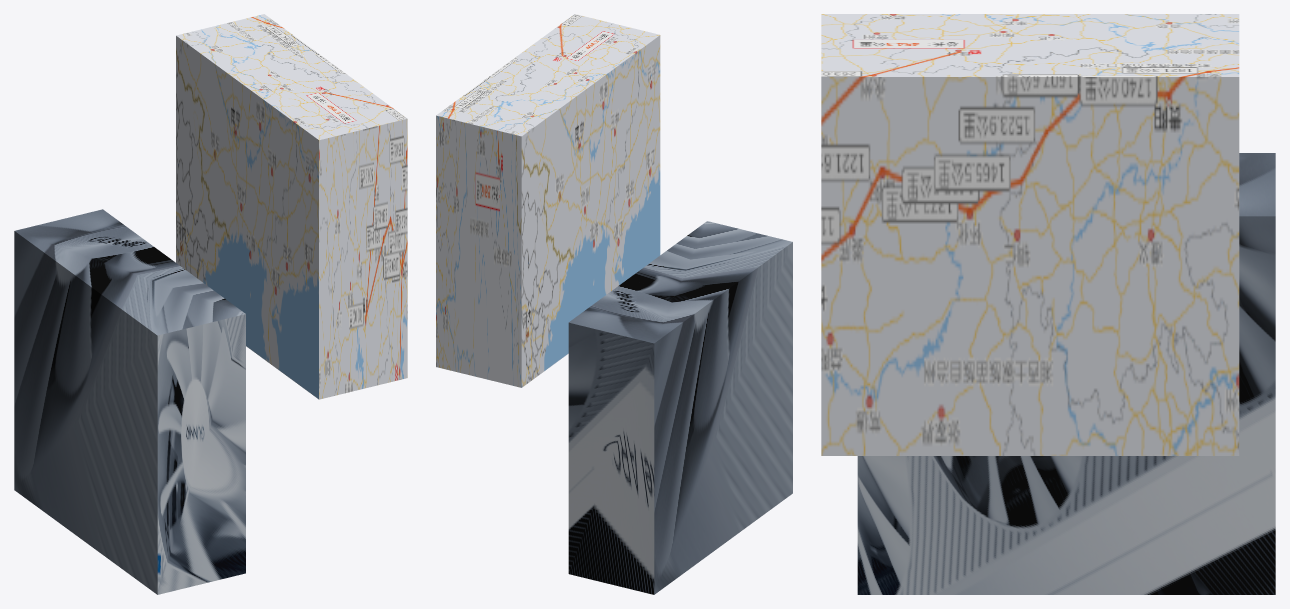
The picture shows the model from 3 angles, left to right: view 1: azimuth 30°, elevation 25°; view 2: azimuth 150°, elevation 25°; view 3: azimuth 270°, elevation 25°; orthographic projection. The views are drawn at different scales.
Parts seen in each view (by area): view 1: cube1, cube2; view 2: cube1, cube2; view 3: cube2, cube1.
Boxes of the visible parts, x1=… form: cube1: x1=14, y1=209, x2=245, y2=594; cube2: x1=176, y1=14, x2=407, y2=399; cube1: x1=568, y1=221, x2=792, y2=594; cube2: x1=436, y1=14, x2=660, y2=387; cube2: x1=821, y1=14, x2=1239, y2=455; cube1: x1=857, y1=153, x2=1275, y2=594.
Size of the model in its own units: 1.92 by 3.3 by 2.17.
2 materials, 2 textured.
